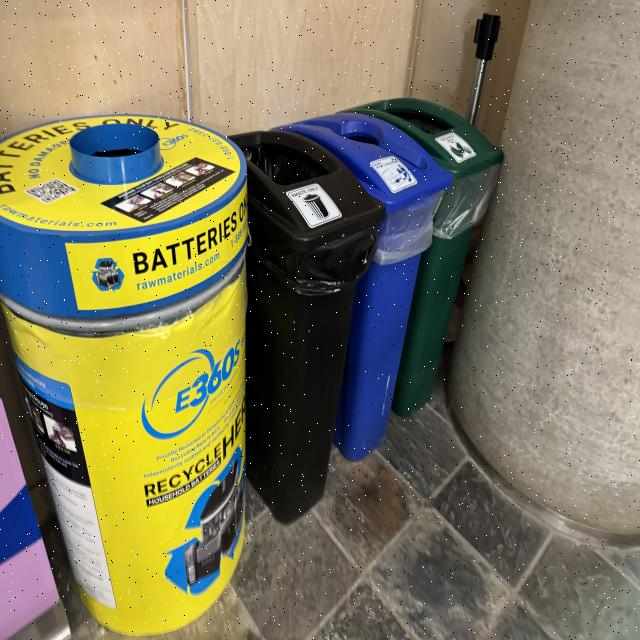Dustbin: (228, 100, 509, 525)
